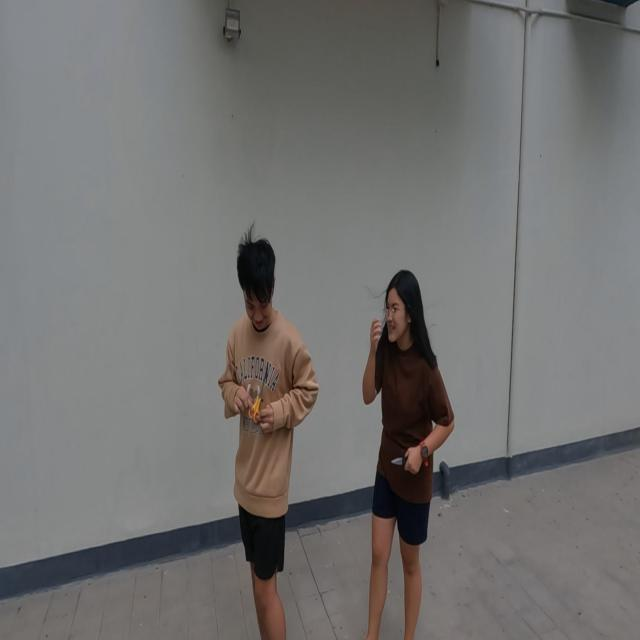scissor: (248, 367, 267, 424), (392, 457, 408, 465)
